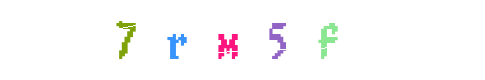5: (202, 0, 282, 80)
7: (86, 0, 166, 80)
F: (268, 0, 348, 80)
M: (191, 0, 271, 80)
R: (187, 0, 267, 80)
